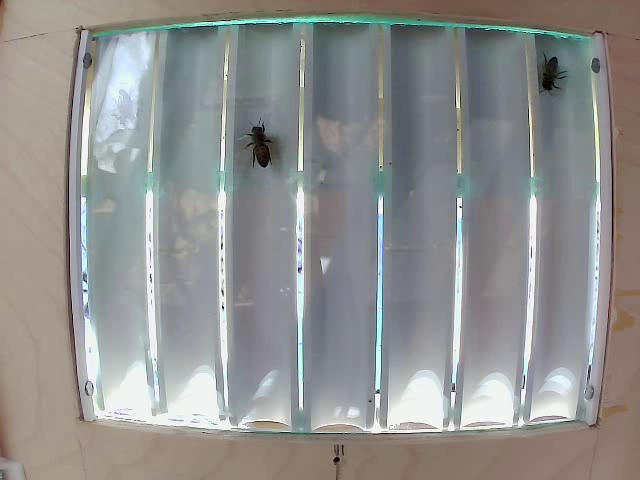bee: (240, 123, 280, 175), (525, 50, 566, 93)
